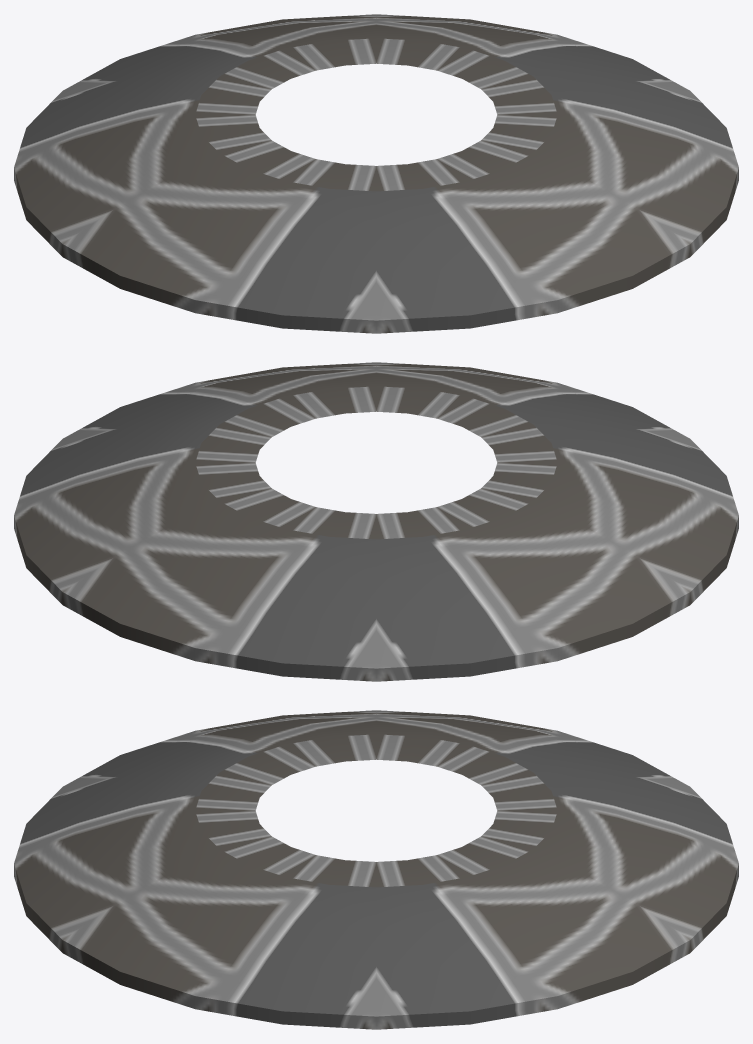
The model's file is 1p5to0p5naked.obj.
3 views of the same model, one above another, from view 1: azimuth 30°, elevation 25°; view 2: azimuth 150°, elevation 25°; view 3: azimuth 270°, elevation 25° (orthographic).
Parts seen in each view (by area): view 1: 1; view 2: 1; view 3: 1.
Part boxes in pixels (left/top/right/bottom): 1: left=14, top=14, right=738, bottom=333; 1: left=14, top=362, right=738, bottom=681; 1: left=14, top=710, right=738, bottom=1029.
Bounding box in the file's own units: 1.88 × 0.1875 × 1.88.
